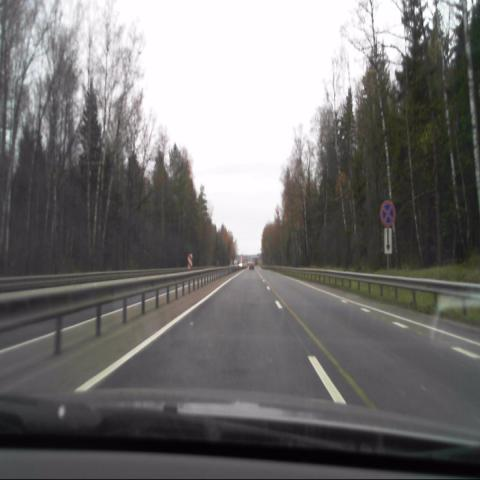8_2_3: (384, 227, 393, 256)
